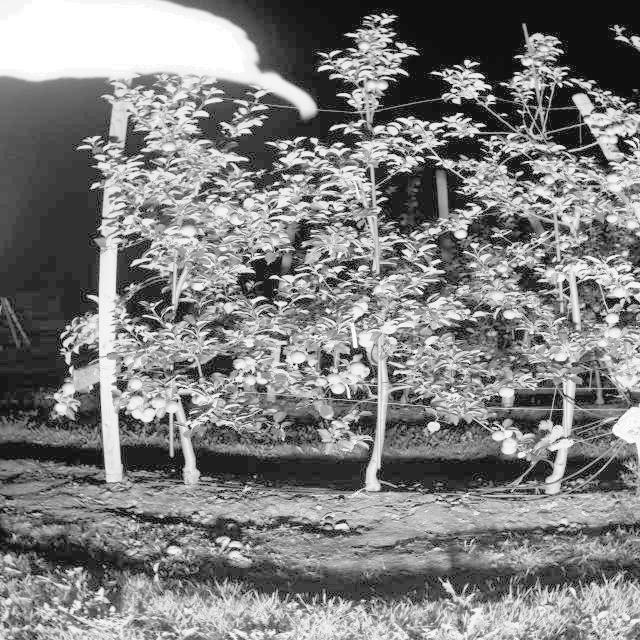Tree: (294, 18, 445, 495), (475, 95, 619, 495), (138, 88, 256, 483)
